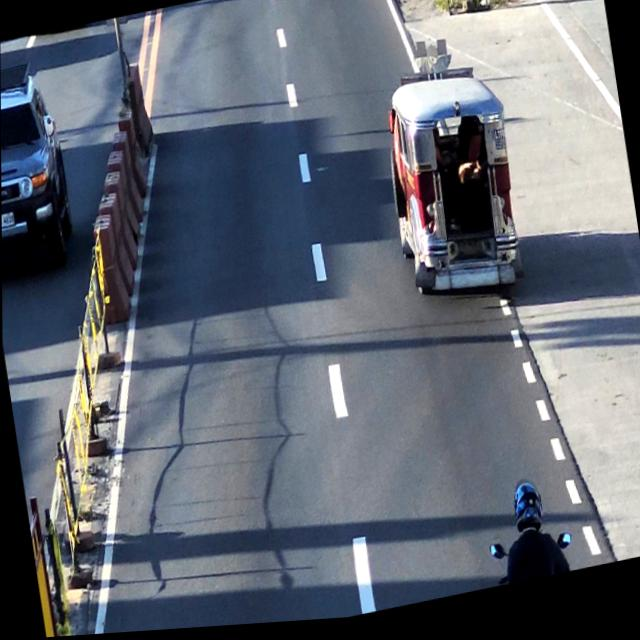Jeep: (376, 49, 526, 311)
License-Plate: (1, 210, 17, 231)
Motorcycle: (483, 478, 572, 593)
